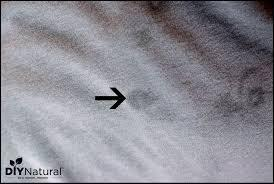mustard: (125, 85, 177, 126)
